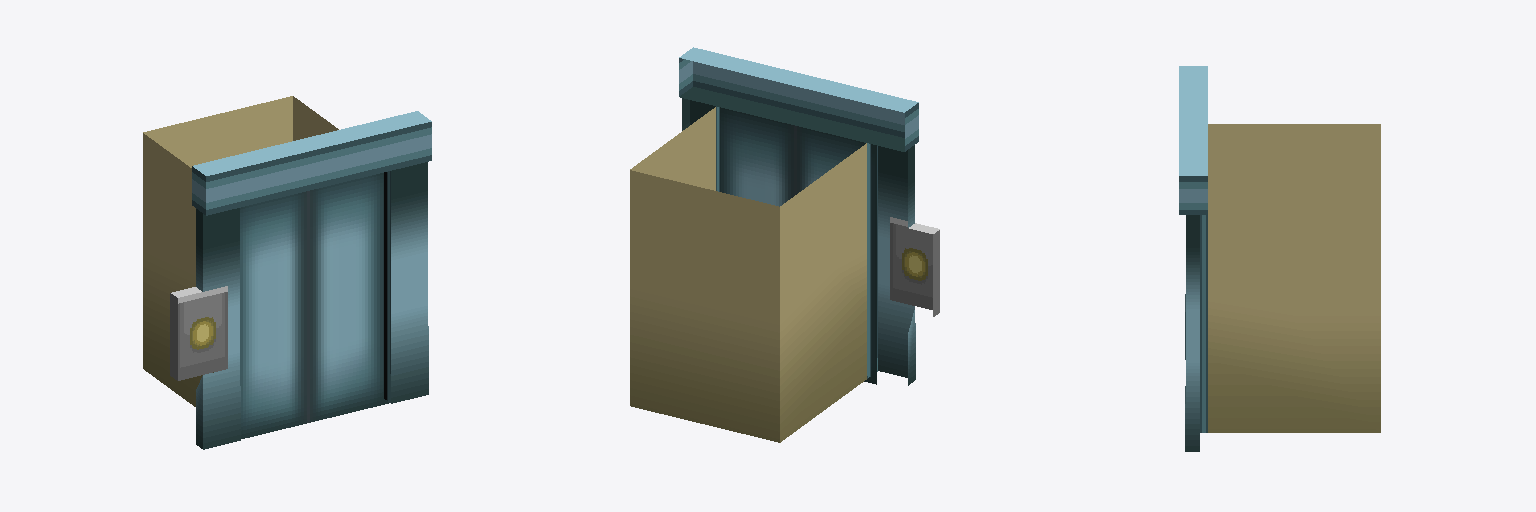
The picture shows the model from 3 angles: view 1: azimuth 30°, elevation 25°; view 2: azimuth 150°, elevation 25°; view 3: azimuth 270°, elevation 25°; orthographic projection.
Visible parts, largest first — view 1: polygon0.001; view 2: polygon0.001; view 3: polygon0.001.
Part boxes in pixels (bbox=[...]): polygon0.001: bbox=[143, 96, 431, 449]; polygon0.001: bbox=[630, 47, 939, 442]; polygon0.001: bbox=[1179, 66, 1380, 451].
Bounding box in the file's own units: 1.98 × 2.13 × 1.39.
2 materials, 1 textured.